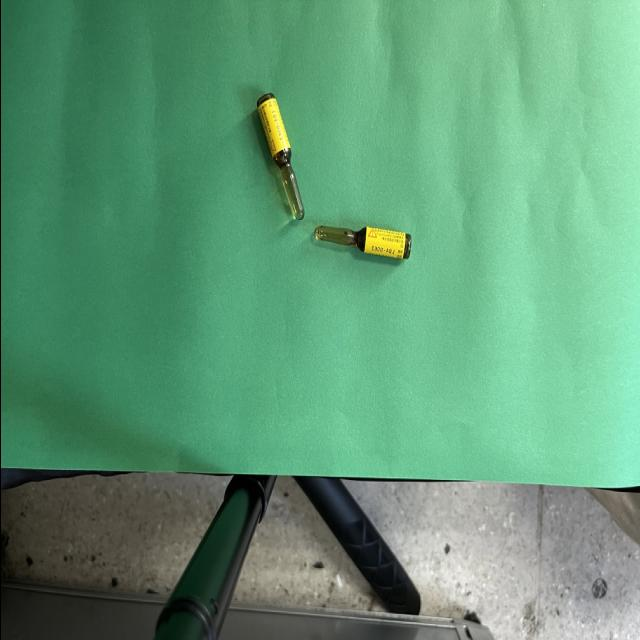Ampoules: (256, 94, 304, 220), (314, 226, 410, 259)
